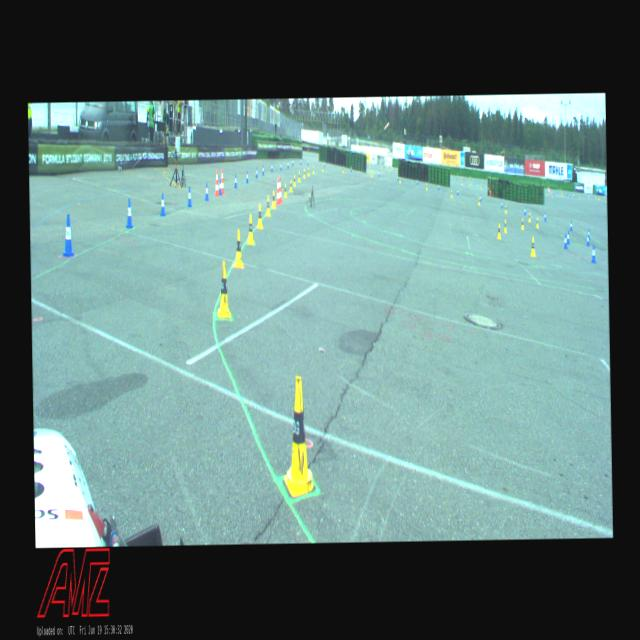blue_cone: (62, 214, 74, 256), (124, 198, 132, 228), (160, 192, 165, 216), (187, 188, 191, 206), (204, 182, 208, 200), (591, 244, 595, 262), (218, 178, 222, 194), (566, 230, 569, 244), (255, 166, 258, 178), (587, 228, 590, 240), (564, 232, 566, 248), (543, 211, 546, 221), (234, 174, 236, 188), (586, 232, 588, 246), (246, 170, 248, 183), (262, 164, 264, 175), (270, 162, 272, 172), (570, 220, 572, 230), (280, 161, 282, 170), (287, 159, 289, 168), (524, 206, 526, 215), (500, 200, 502, 209), (291, 157, 293, 165), (456, 187, 458, 195), (479, 194, 481, 202), (306, 158, 308, 165), (351, 164, 352, 172), (437, 182, 438, 190), (324, 160, 325, 167), (378, 170, 379, 177), (417, 178, 418, 185), (300, 158, 300, 165)
large_orange_cone: (214, 168, 219, 196), (275, 177, 280, 203), (279, 176, 282, 202), (220, 168, 223, 193)
yellow_cone: (282, 375, 316, 496), (217, 260, 230, 318), (233, 228, 243, 268), (246, 213, 254, 244), (256, 202, 262, 228), (530, 237, 535, 257), (266, 195, 270, 216), (496, 222, 501, 238), (271, 190, 275, 208), (502, 219, 507, 232), (520, 217, 524, 229), (283, 182, 286, 196), (289, 179, 292, 191), (293, 174, 295, 186), (298, 170, 300, 182), (536, 216, 538, 227), (528, 211, 530, 222), (303, 168, 305, 178), (450, 188, 452, 198), (307, 167, 309, 176), (504, 204, 506, 213), (478, 196, 480, 205), (342, 165, 343, 173), (399, 175, 400, 183), (313, 165, 314, 172), (322, 164, 323, 171), (371, 170, 372, 177), (426, 182, 426, 190)
